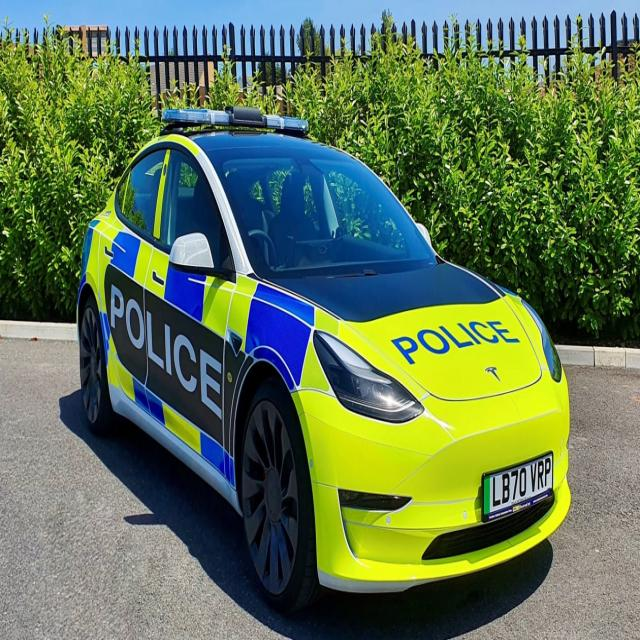Police: (72, 94, 585, 638)
